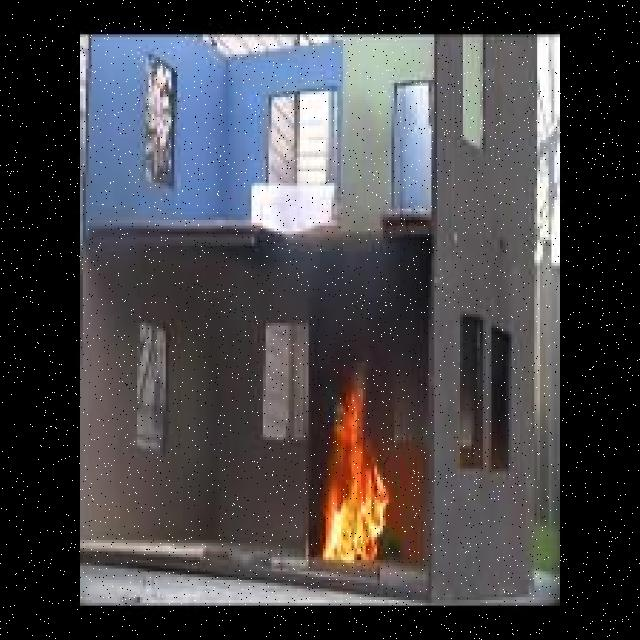fire: (311, 356, 400, 575)
